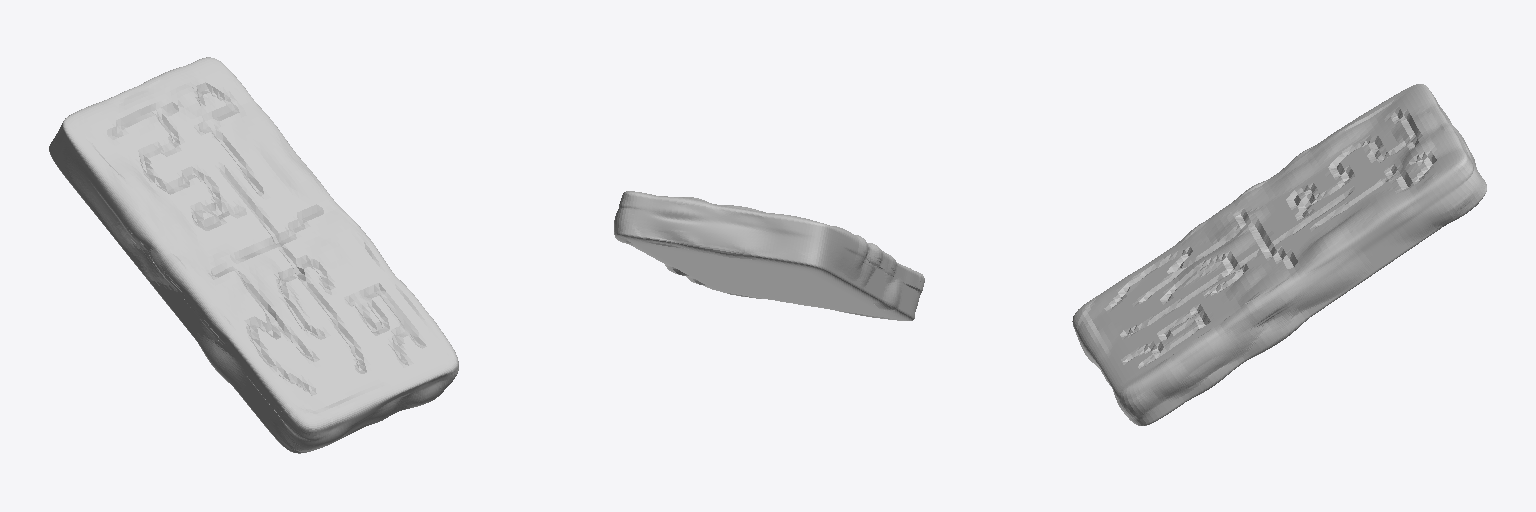
File: tablet.obj
3 renders of one model, left to right at view 1: azimuth 30°, elevation 25°; view 2: azimuth 150°, elevation 25°; view 3: azimuth 270°, elevation 25°, orthographic.
Size of the model in its own units: 1.92 by 1.71 by 2.68.